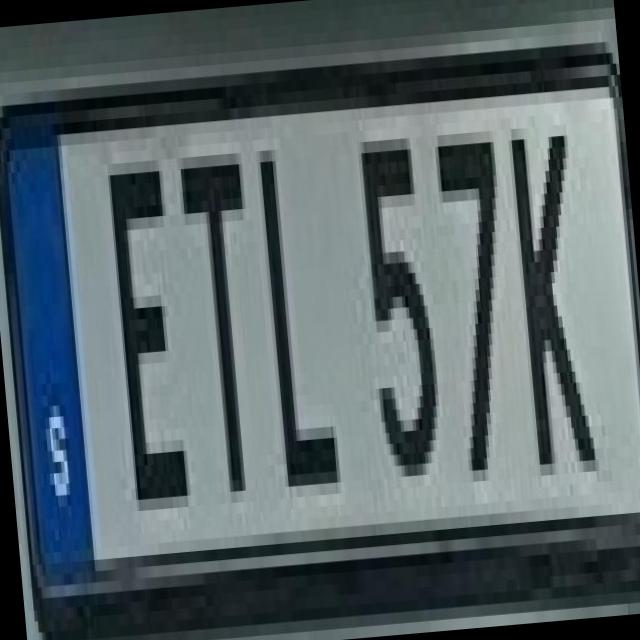5: (339, 103, 448, 479)
7: (420, 108, 520, 461)
E: (91, 136, 193, 501)
K: (492, 100, 600, 466)
L: (240, 111, 350, 488)
T: (167, 118, 267, 494)
